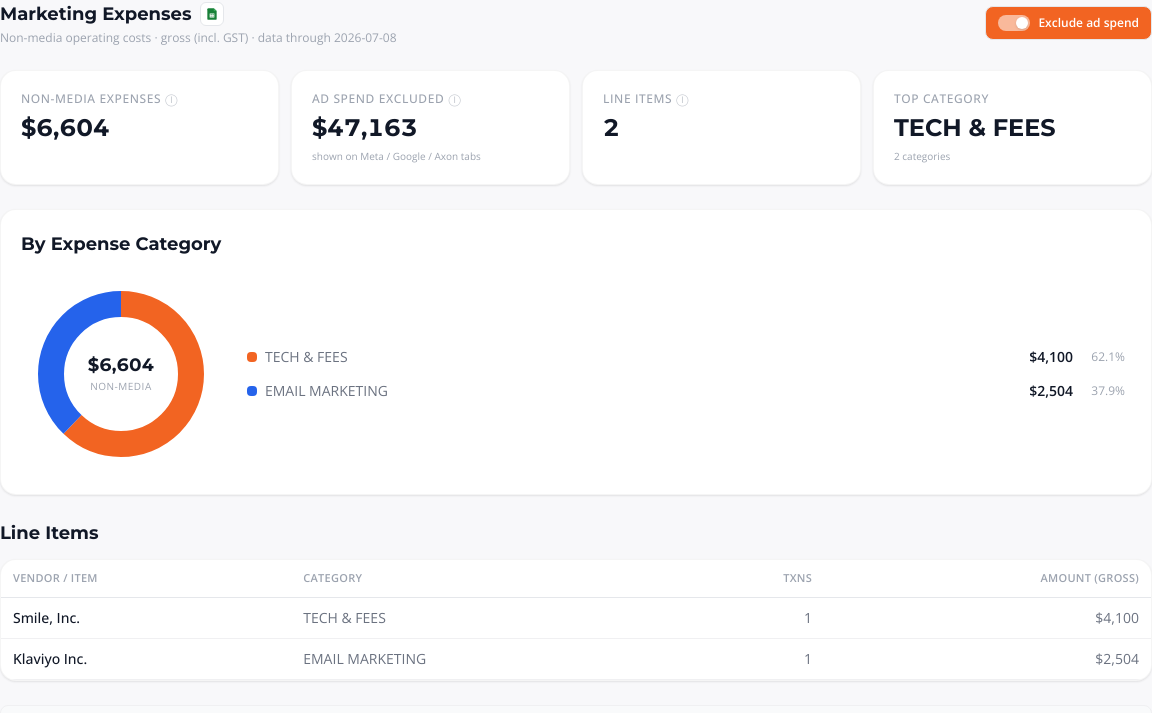
it: toggling off reveals the ad-spend line item
The width and height of the screenshot is (1152, 713).
Click the button "Exclude ad spend": (1069, 23) [985, 6, 1151, 40]
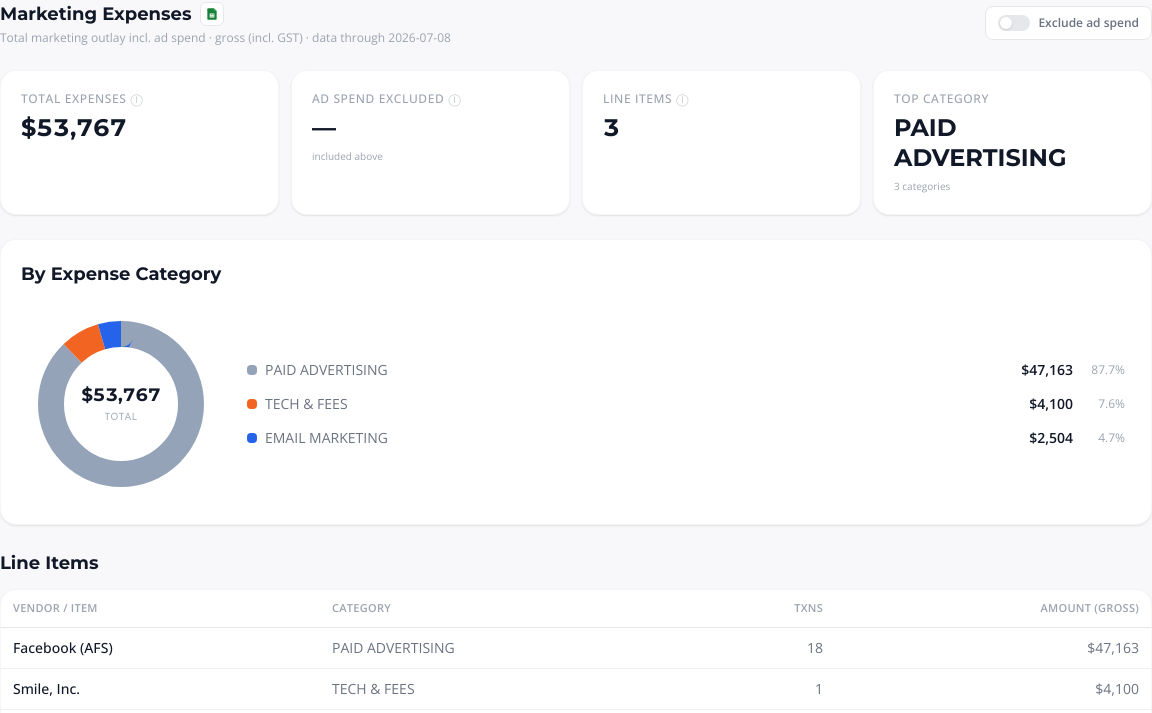
Check: the text "Facebook (AFS)" is shown, box [1, 627, 320, 668]
